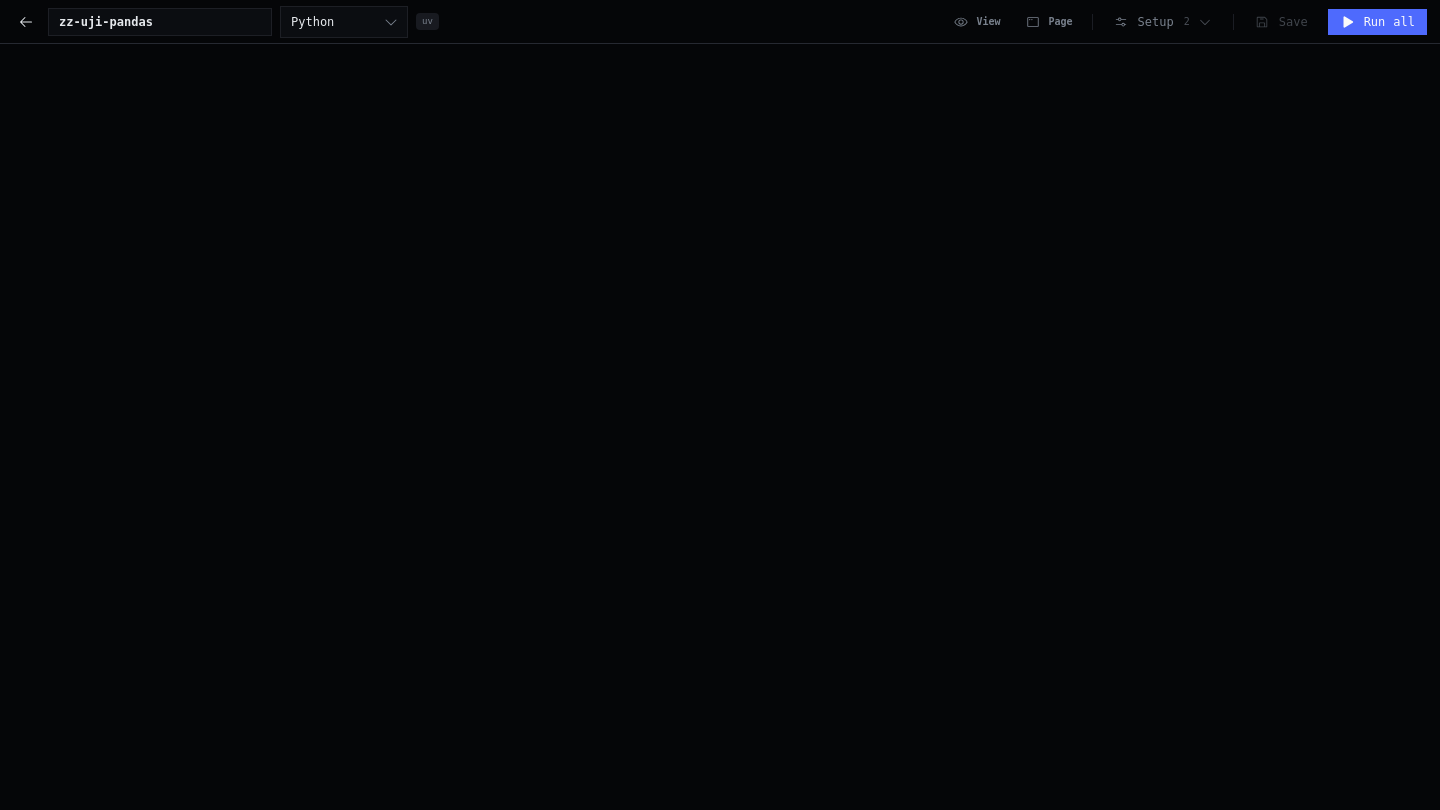
Scenario: the Setup popover › counts declared packages on the button, so a closed panel is not a hidden one
Later steps or results of the test are not shown.
Click the button "Setup 2".
click(1163, 22)  # box [1103,8,1223,36]
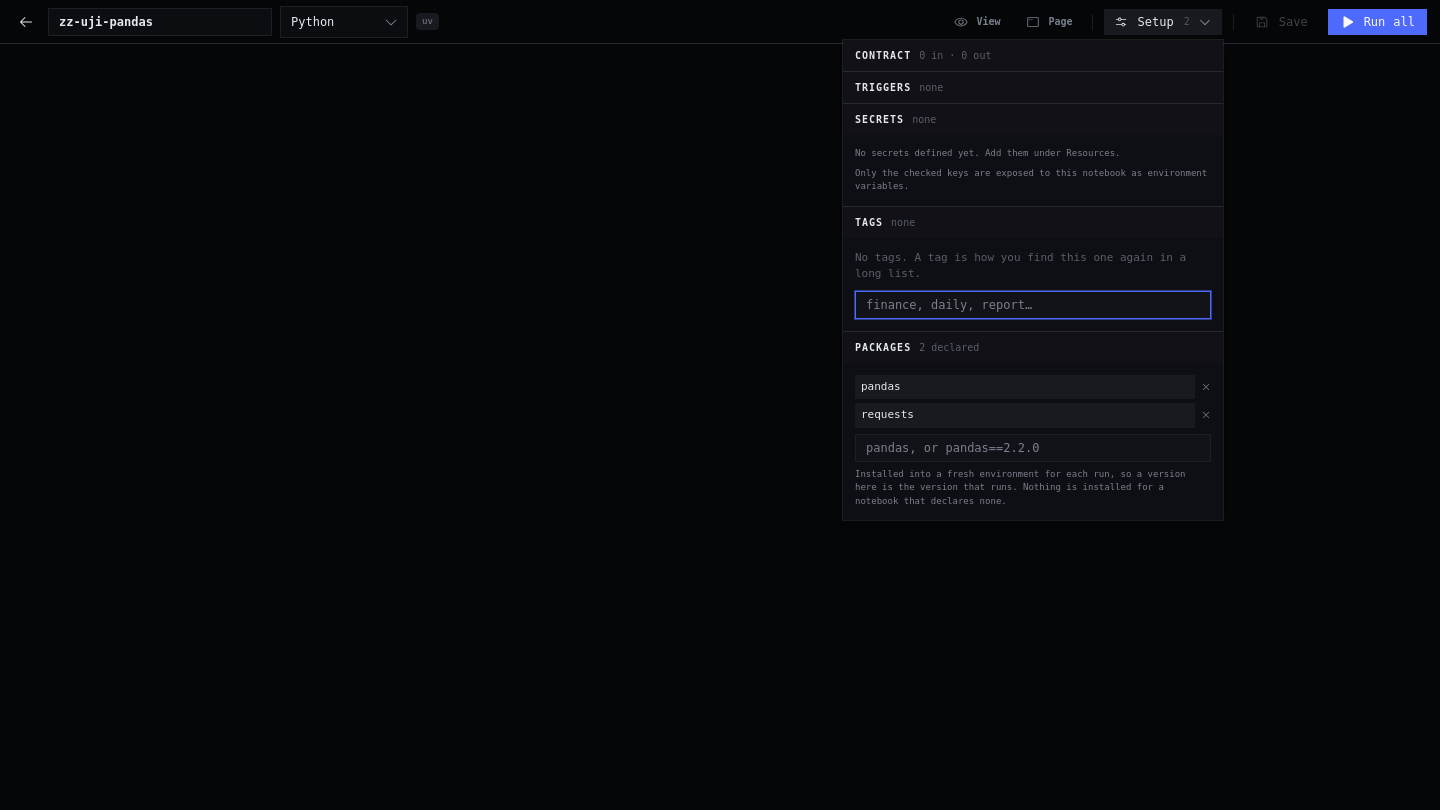
Now the text "2 declared" is shown, box [919,340,979,354]
